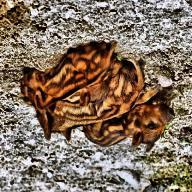boar: (91, 98, 182, 164)
